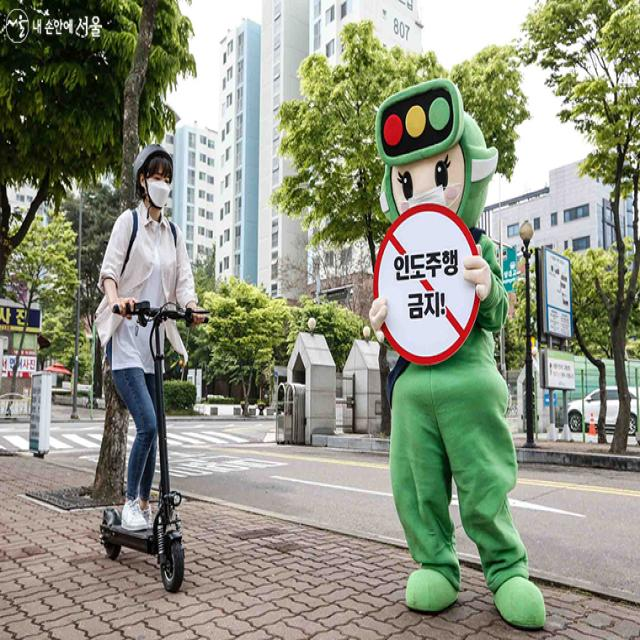helmet: (92, 139, 210, 595)
